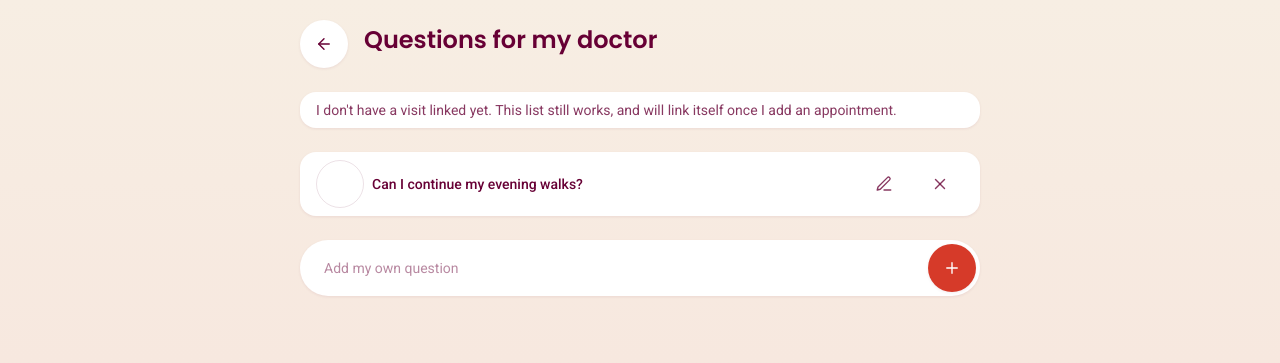
Scenario: SuggestedQuestions › edits a custom question's text in place
Click the button named "Edit question" at (884, 184), box [860,160,908,208]
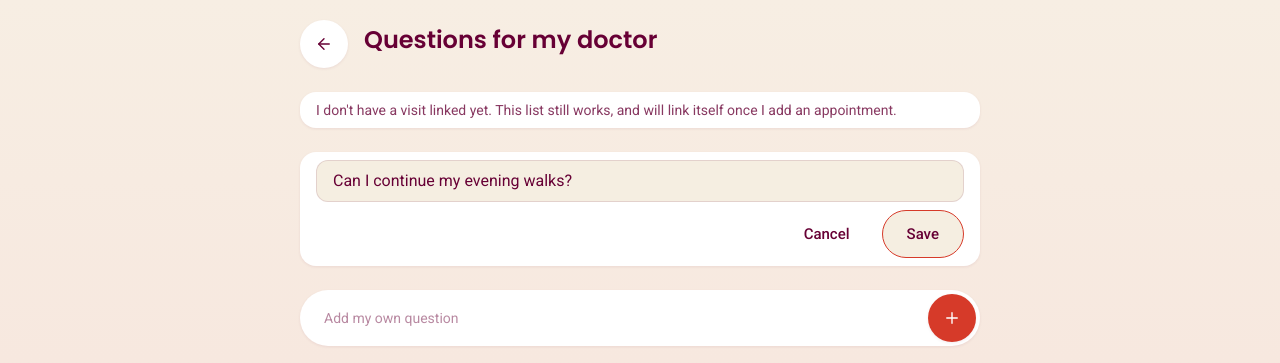
Replace the text in the field named "Question" with "Can I keep travelling?" at (640, 181), box [316,160,964,202]
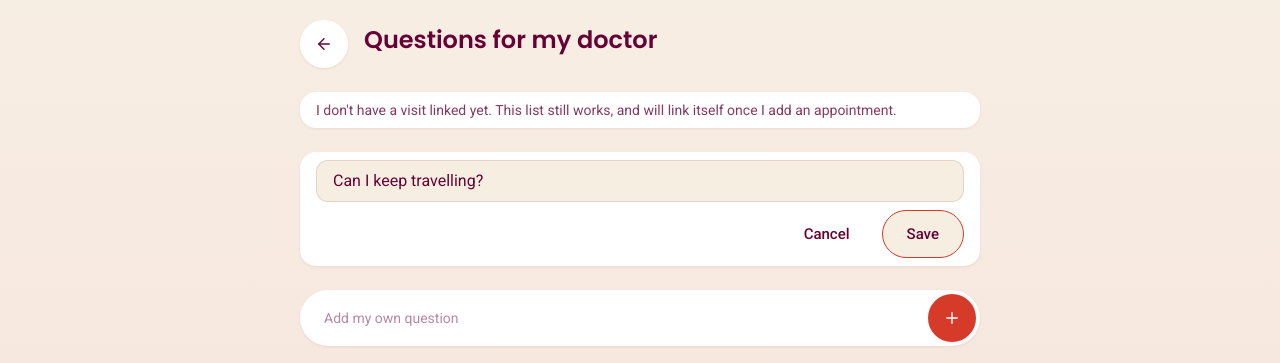
Click the button "Save" at (923, 234), box [882,210,964,258]
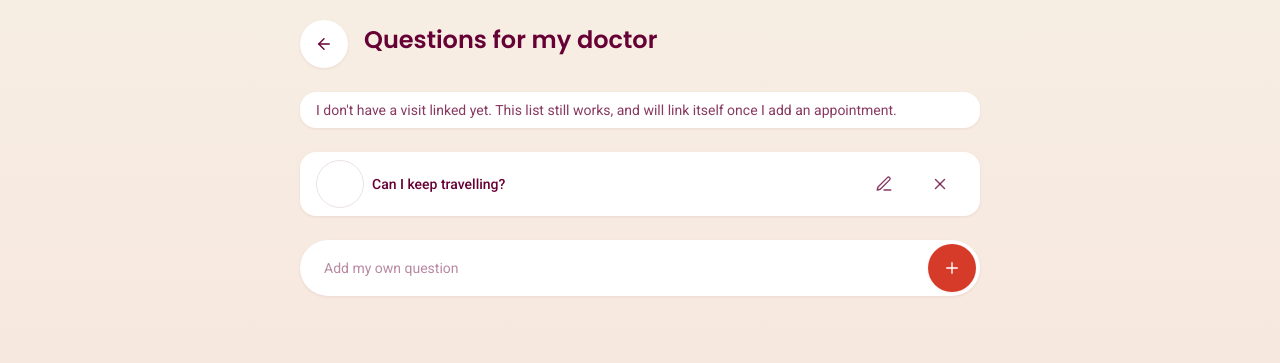
Expected: the button "Can I keep travelling?" is shown, [372,174,852,194]
